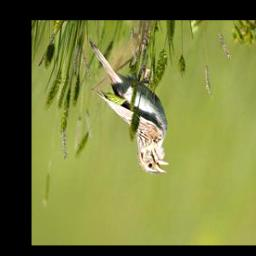Sparrow: (90, 41, 171, 176)
